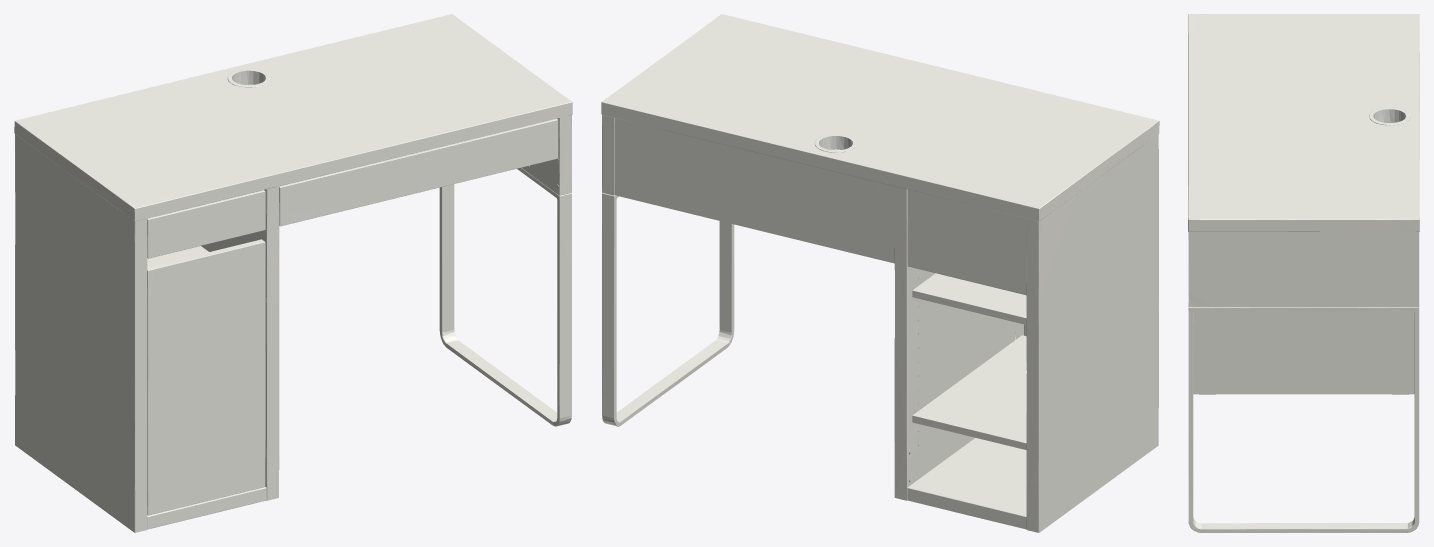
3 renders of one model, left to right at view 1: azimuth 30°, elevation 25°; view 2: azimuth 150°, elevation 25°; view 3: azimuth 270°, elevation 25°, orthographic. The views are drawn at different scales.
Parts seen in each view (by area): view 1: model; view 2: model; view 3: model.
Boxes of the visible parts, bbox=[...] form: model: bbox=[14, 14, 572, 532]; model: bbox=[601, 14, 1159, 532]; model: bbox=[1188, 14, 1419, 532].
Size of the model in its own units: 1.05 by 0.75 by 0.4999.
1 material, 1 textured.
